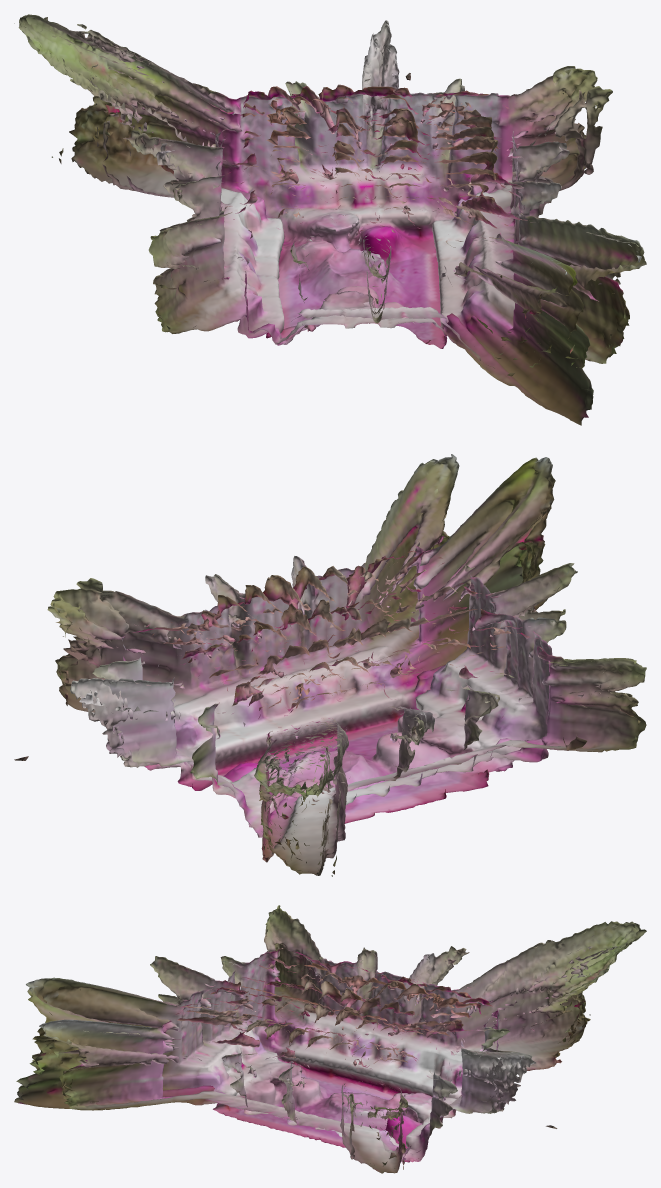
Rendered from twinkle-butterfly-patio-1-1_collider.glb.
3 views of the same model, one above another, from view 1: azimuth 30°, elevation 25°; view 2: azimuth 150°, elevation 25°; view 3: azimuth 270°, elevation 25° (orthographic). The views are drawn at different scales.
Visible parts, largest first — view 1: world; view 2: world; view 3: world.
Part boxes in pixels (left/top/right/bottom): world: left=14, top=14, right=646, bottom=425; world: left=14, top=454, right=646, bottom=876; world: left=14, top=905, right=646, bottom=1173.
Bounding box in the file's own units: 10.07 × 3.43 × 13.81.
